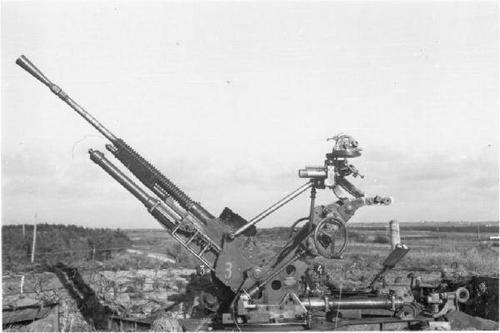MIL_SPG: (17, 57, 478, 331), (45, 262, 190, 332)
